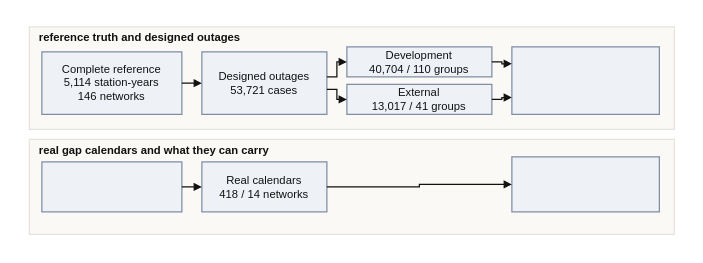
Some shapes in this 703 by 263 pixel diagram are drawn without their labels. Each missing label, with the centre of its shape:
"Admission comparison 5% cap, group cross-fit" belongs at pixel 585 80.
"Deployment probe what screening does on real calendars" belongs at pixel 585 184.
"Real archive 2,422 incomplete years" belongs at pixel 111 186.
